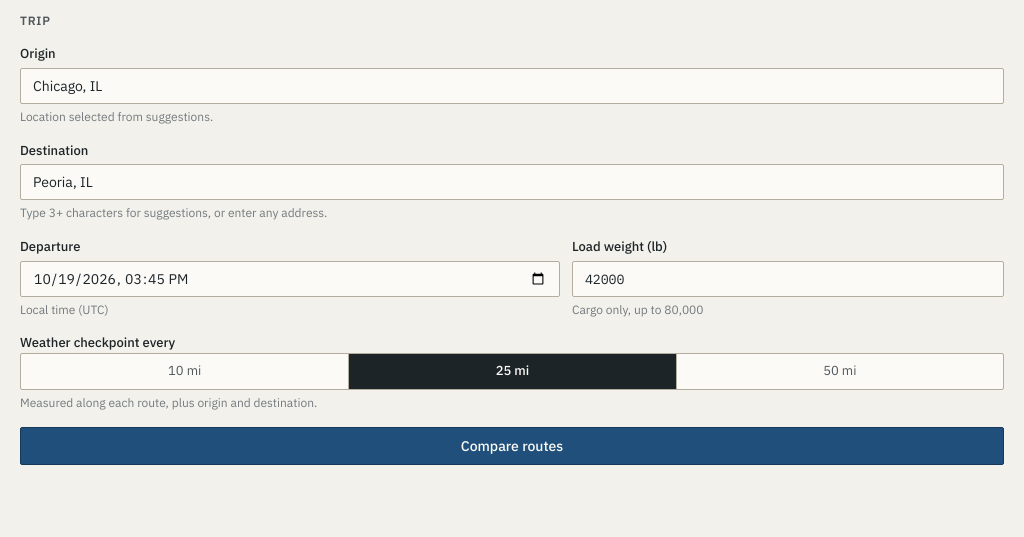
Test case: PlanForm › shows provider outages as a form-level message
Step 1. Click the button "Compare routes" → (512, 446), box [20,427,1004,465]
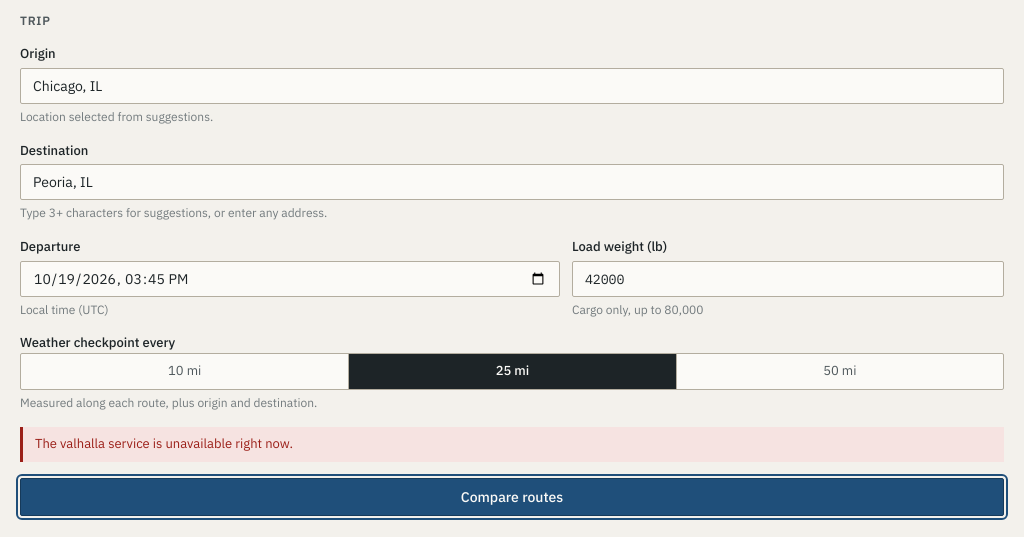
Result: the text "The valhalla service is unavailable right now." is shown at [20,427,1004,462]
